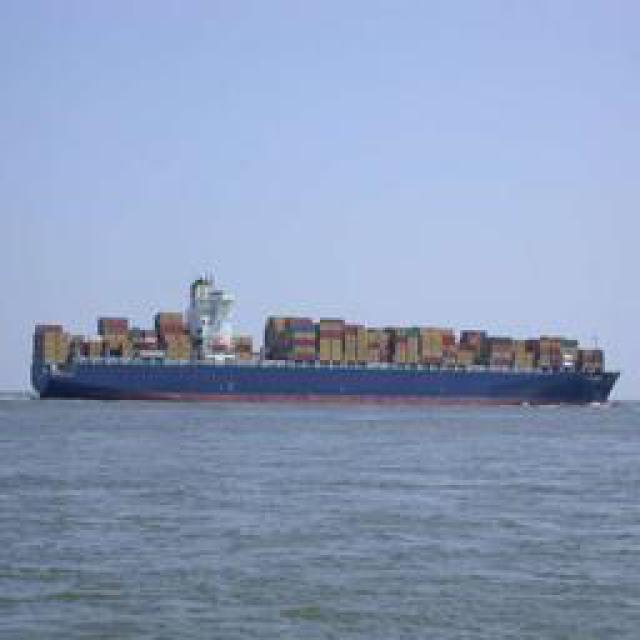Ship: (31, 304, 621, 407)
